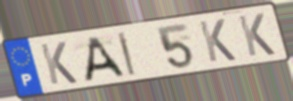5: (154, 21, 197, 71)
A: (82, 34, 127, 84)
I: (116, 30, 138, 78)
K: (37, 40, 80, 87), (196, 17, 239, 64), (235, 12, 278, 58)
